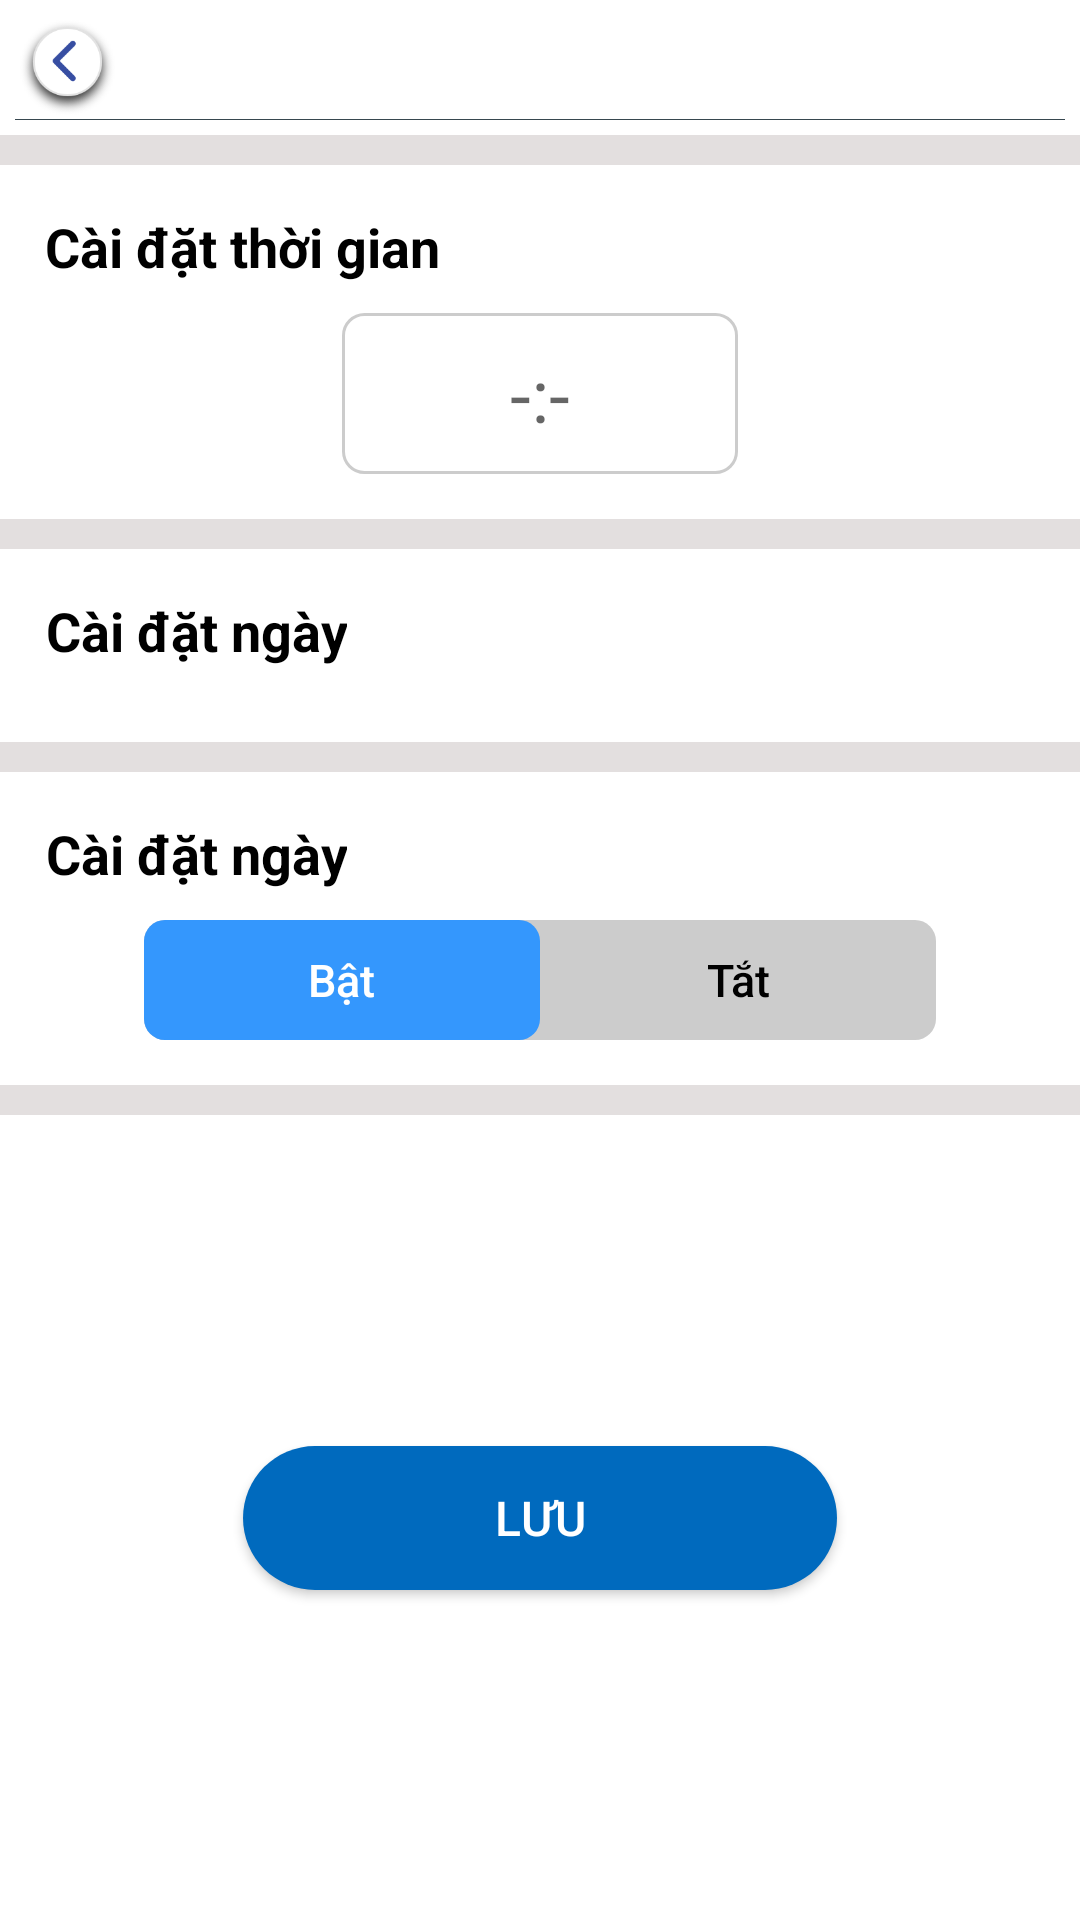

Where to tap for icons on this 1080 × 1920 app screen, as (x,y):
back circle: (67,67)
